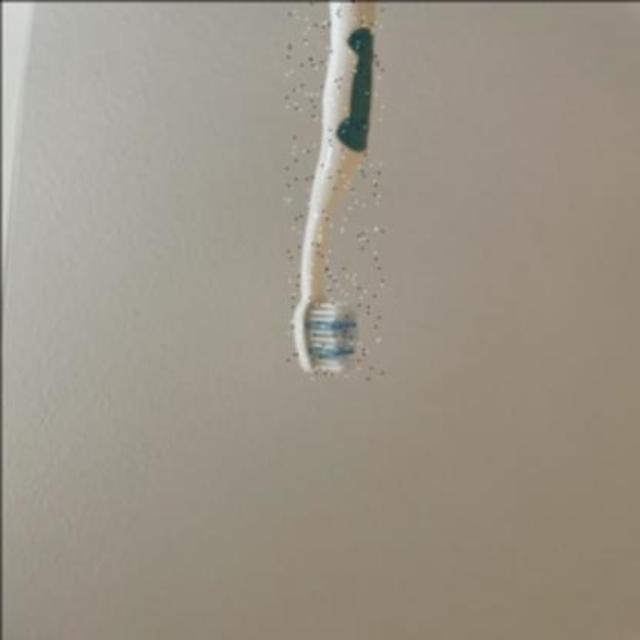toothbrush: (283, 0, 381, 378)
